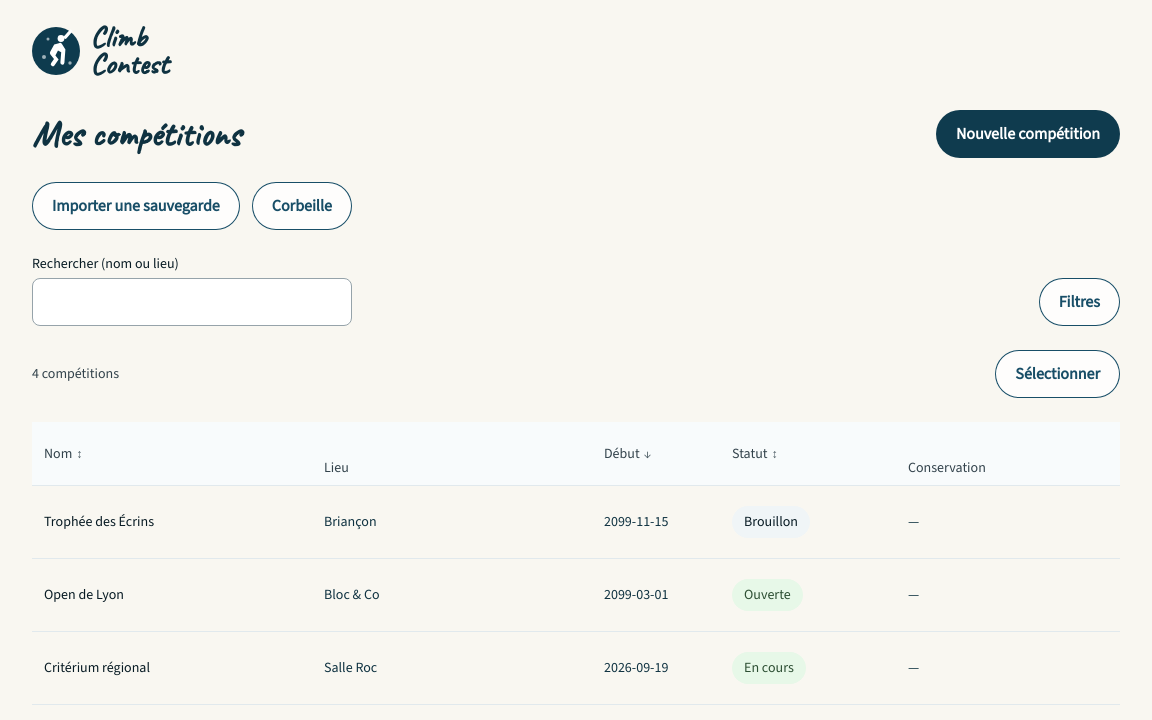
Test: CompetitionList › sur grand écran (Lot 18) › coche une ligne et refuse celle qui est en cours
Click the button "Sélectionner". click: (1058, 374)
box: [995, 350, 1120, 398]
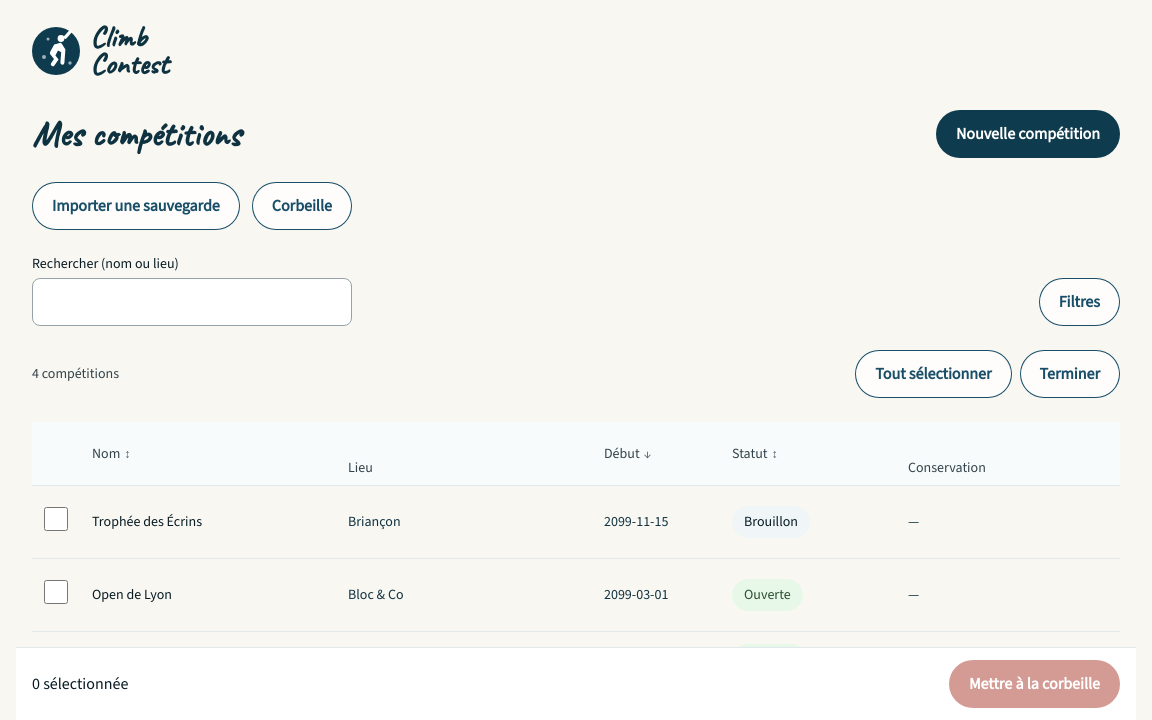
Now the number of checkboxes is 4
Now the checkbox named "Critérium régional" is disabled, box [44, 657, 68, 681]
Click the checkbox named "Trophée des Écrins". click: (56, 519)
box: [44, 507, 68, 531]
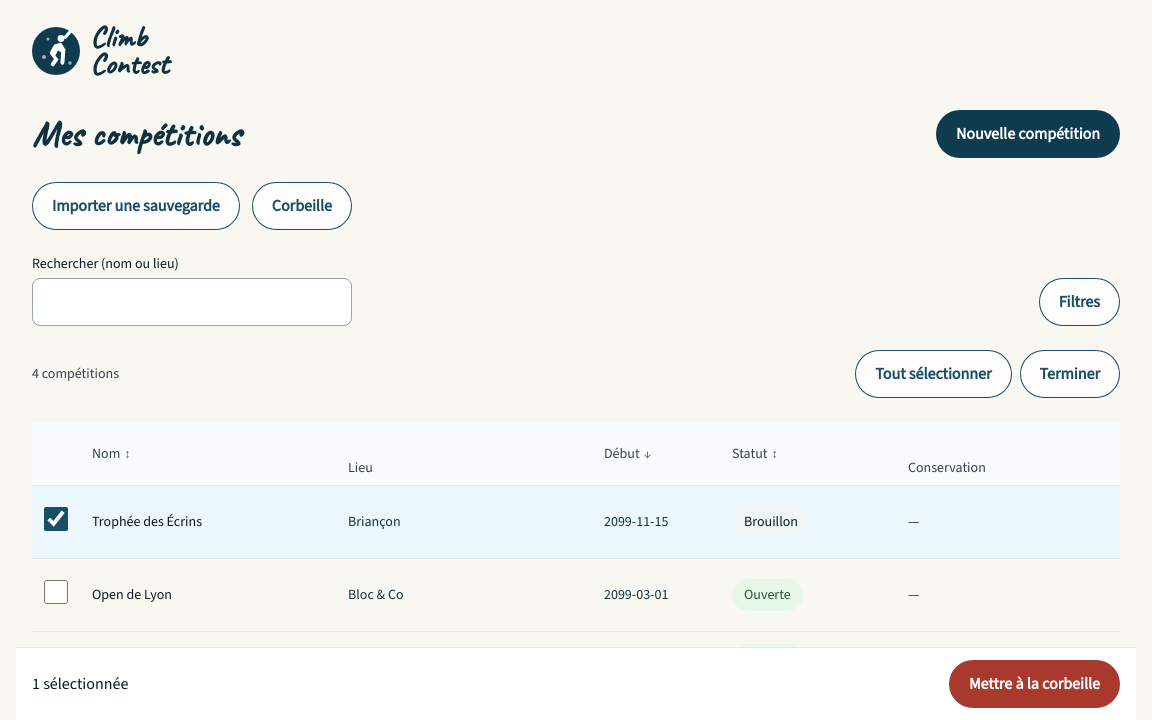
Now the text "1 sélectionnée" is shown, box [32, 672, 128, 696]
